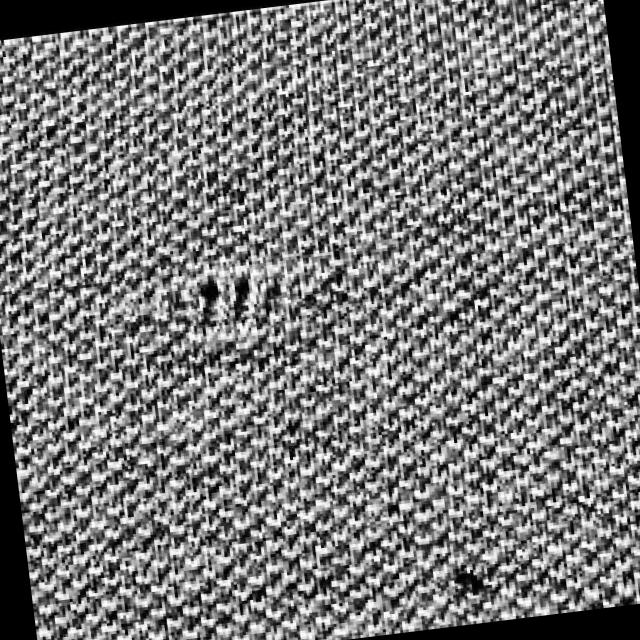cut: (128, 241, 378, 374)
